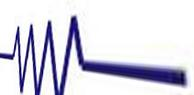resistor: (7, 15, 97, 94)
